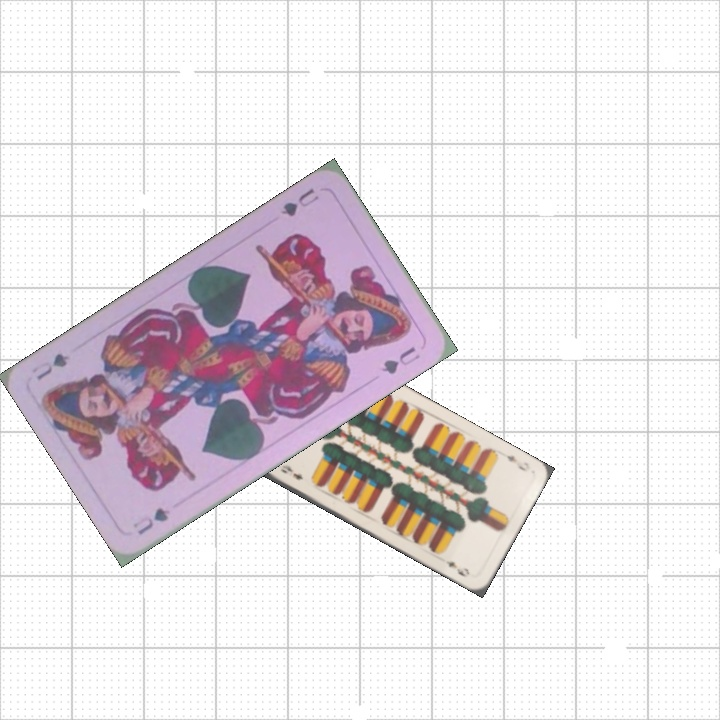E9: (503, 451, 534, 474), (276, 461, 306, 483)
GU: (277, 184, 322, 219), (128, 503, 173, 538)
